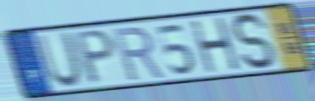5: (154, 21, 197, 77)
H: (187, 15, 243, 75)
P: (72, 27, 118, 88)
R: (110, 25, 168, 83)
S: (230, 12, 281, 72)
U: (35, 30, 85, 89)
